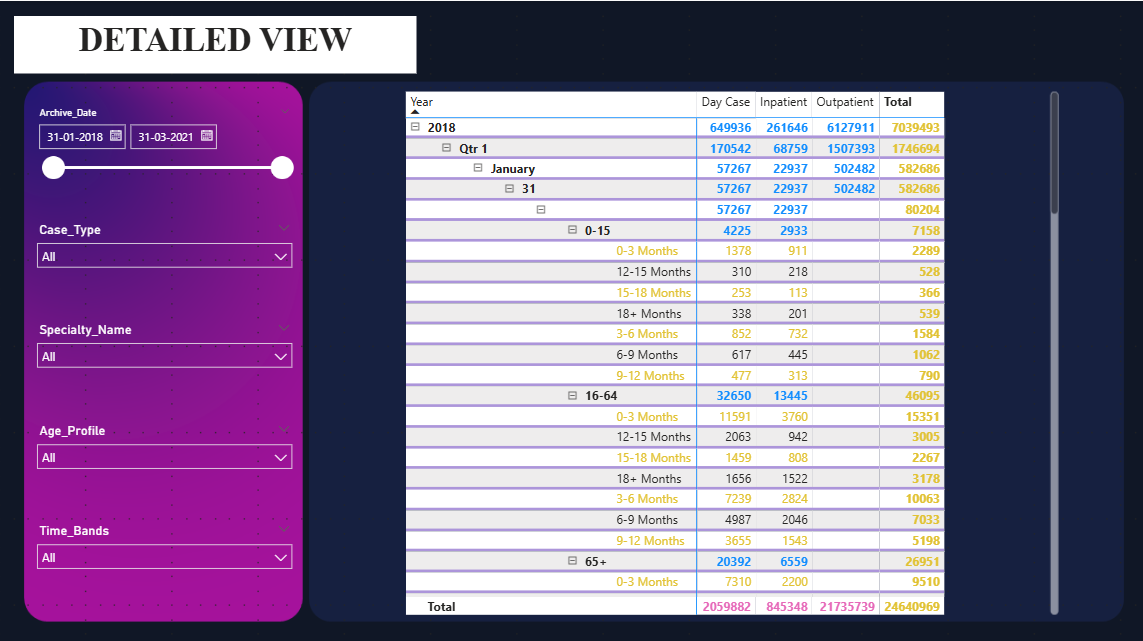

This screenshot's page, from the dashboard's own definition file:
{"tool":"powerbi","page":{"name":"Detail","canvas":[1280,720],"ordinal":1},"visuals":[{"type":"slicer","fields":{"Values":["All_Data.Archive_Date"]},"box":[32,112,304,112],"z":0},{"type":"slicer","fields":{"Values":["All_Data.Case_Type"]},"box":[32,240,304,96],"z":1000},{"type":"slicer","fields":{"Values":["All_Data.Specialty_Name"]},"box":[32,352,304,96],"z":2000},{"type":"textbox","box":[16,16,448,64],"z":3000},{"type":"slicer","fields":{"Values":["All_Data.Age_Profile"]},"box":[32,464,304,96],"z":4000},{"type":"slicer","fields":{"Values":["All_Data.Time_Bands"]},"box":[32,576,304,96],"z":5000},{"type":"pivotTable","fields":{"Rows":["All_Data.Archive_Date.Variation.Date Hierarchy.Year","All_Data.Archive_Date.Variation.Date Hierarchy.Quarter","All_Data.Archive_Date.Variation.Date Hierarchy.Month","All_Data.Archive_Date.Variation.Date Hierarchy.Day","All_Data.Speciality_Name","All_Data.Age_Profile","All_Data.Time_Bands"],"Columns":["All_Data.Case_Type"],"Values":["Sum(All_Data.Total)"]},"box":[448,96,736,592],"z":6000}]}

Visuals, with their boxes in screenshot pixels (x1, y1, x2, y2), scaled from the page's 1280x720 canvas onto the 1143x641 screenshot:
slicer - All_Data.Archive_Date: <box>29,100,300,199</box>
slicer - All_Data.Case_Type: <box>29,214,300,299</box>
slicer - All_Data.Specialty_Name: <box>29,313,300,399</box>
textbox: <box>14,14,414,71</box>
slicer - All_Data.Age_Profile: <box>29,413,300,499</box>
slicer - All_Data.Time_Bands: <box>29,513,300,598</box>
pivotTable - All_Data.Archive_Date.Variation.Date Hierarchy.Year x All_Data.Archive_Date.Variation.Date Hierarchy.Quarter: <box>400,85,1057,613</box>
